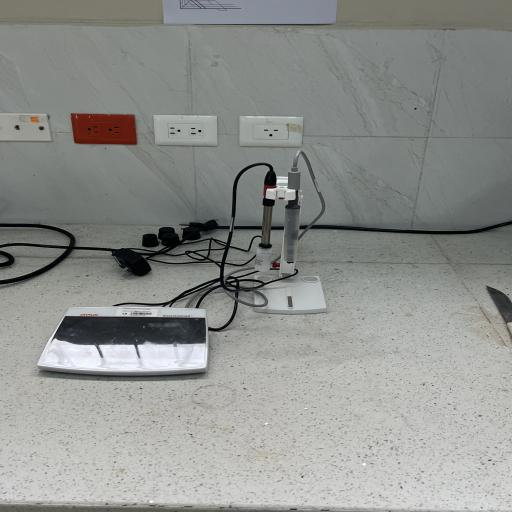Phmetro_Ohaus: (26, 296, 226, 386)
